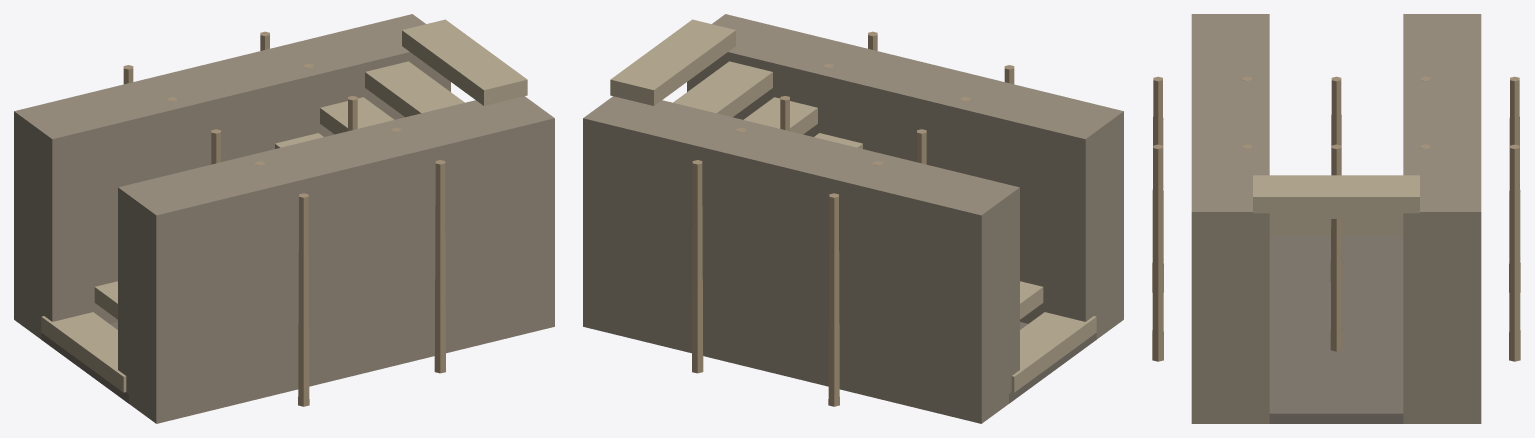
The model's file is trench-line-1917-ramp-exit-af67834d__24050.glb.
3 views of the same model, side by side, from view 1: azimuth 30°, elevation 25°; view 2: azimuth 150°, elevation 25°; view 3: azimuth 270°, elevation 25° (orthographic).
Parts seen in each view (by area): view 1: ramp-exit; view 2: ramp-exit; view 3: ramp-exit.
Boxes of the visible parts, x1=… form: ramp-exit: x1=14, y1=14, x2=554, y2=423; ramp-exit: x1=583, y1=14, x2=1123, y2=423; ramp-exit: x1=1152, y1=14, x2=1520, y2=423.
Bounding box in the file's own units: 4.26 × 2.26 × 3.3.
